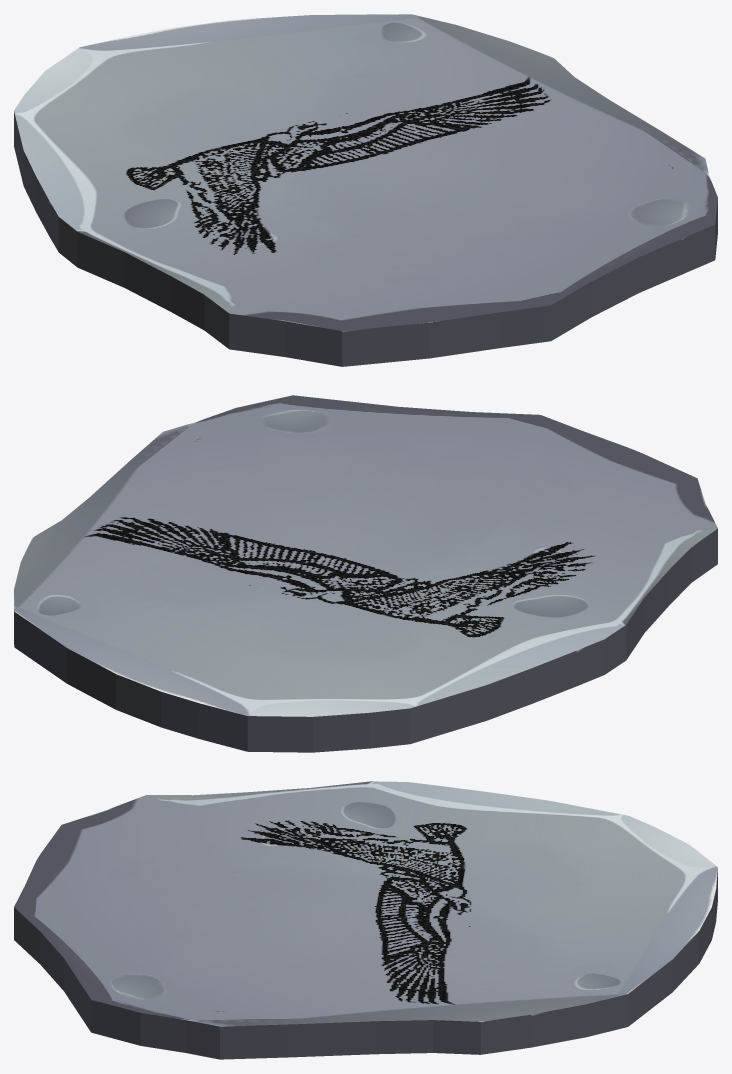
Rendered from runeNekhbet.glb.
The picture shows the model from 3 angles, top to bottom: view 1: azimuth 30°, elevation 25°; view 2: azimuth 150°, elevation 25°; view 3: azimuth 270°, elevation 25°; orthographic projection. The views are drawn at different scales.
Visible parts, largest first — view 1: rune; view 2: rune; view 3: rune.
Boxes of the visible parts, left/top/right/bottom form: rune: left=14, top=14, right=717, bottom=366; rune: left=14, top=395, right=717, bottom=752; rune: left=14, top=781, right=717, bottom=1059.
Size of the model in its own units: 0.8115 by 0.0509 by 0.9844.
1 material, 1 textured.
